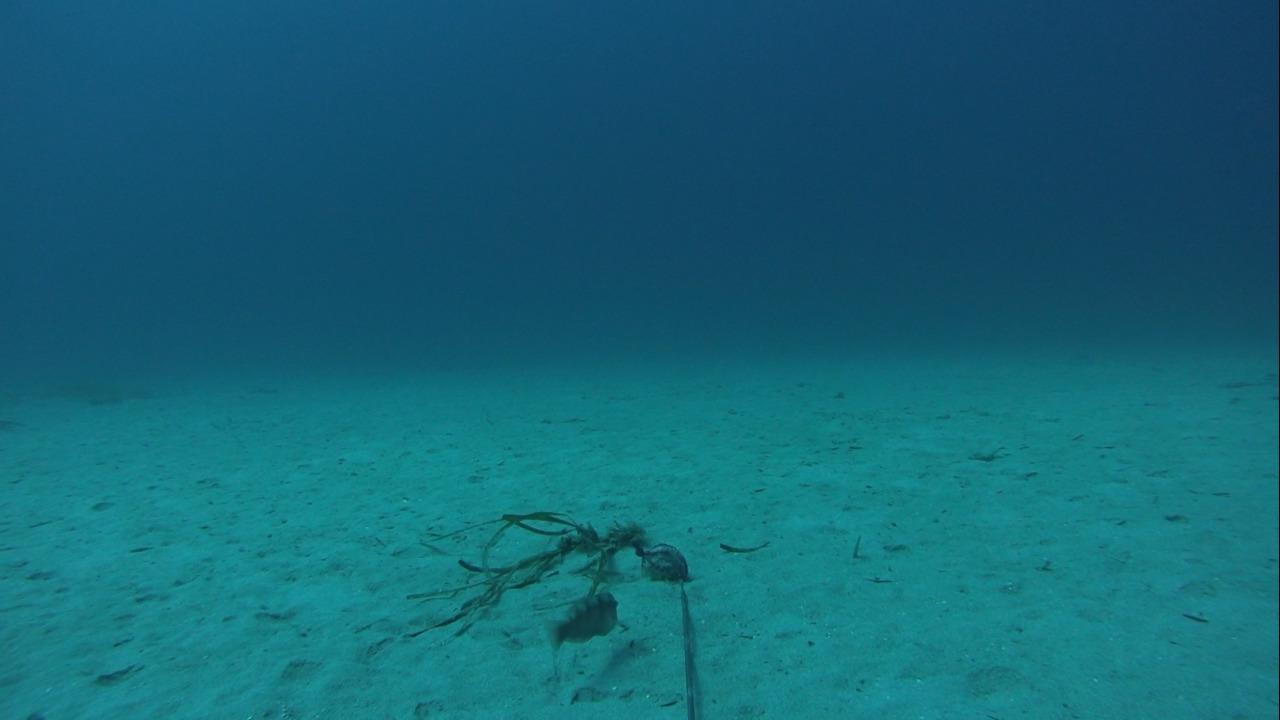raor: (539, 589, 623, 655)
